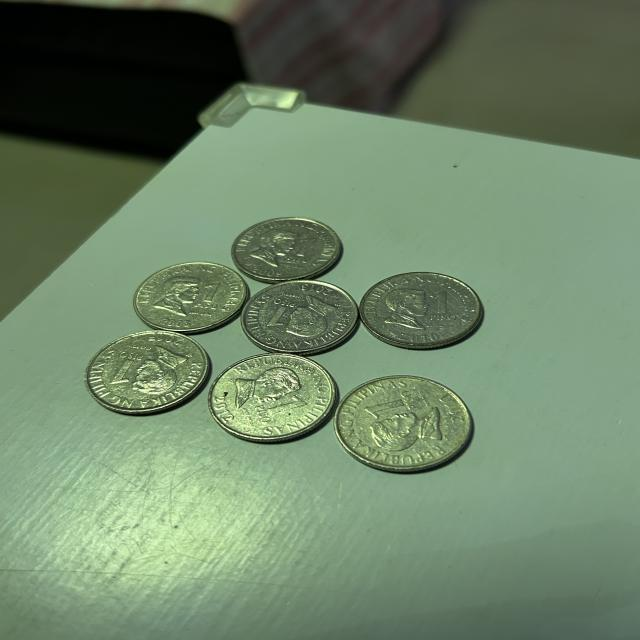1_Old_Front: (371, 393, 431, 428), (253, 396, 317, 423), (111, 353, 156, 390), (273, 234, 320, 263), (264, 297, 298, 337), (419, 291, 457, 322)
